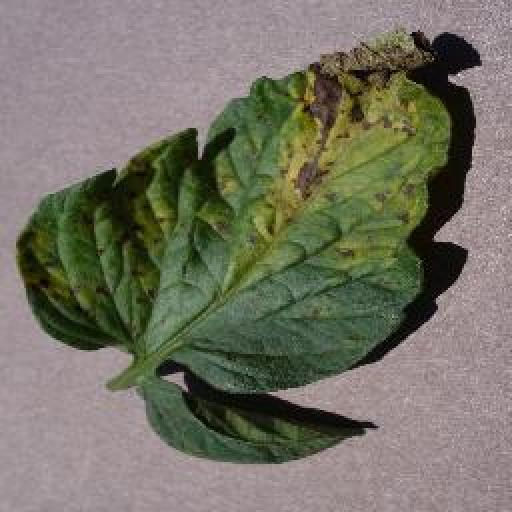Septoria: (16, 25, 450, 392)
